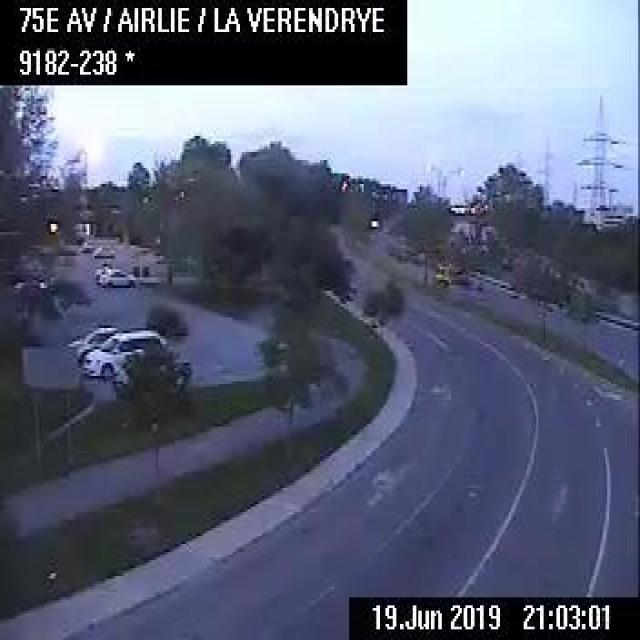vehicle: (80, 329, 168, 379), (111, 355, 190, 392), (64, 322, 115, 357), (98, 266, 133, 288)
